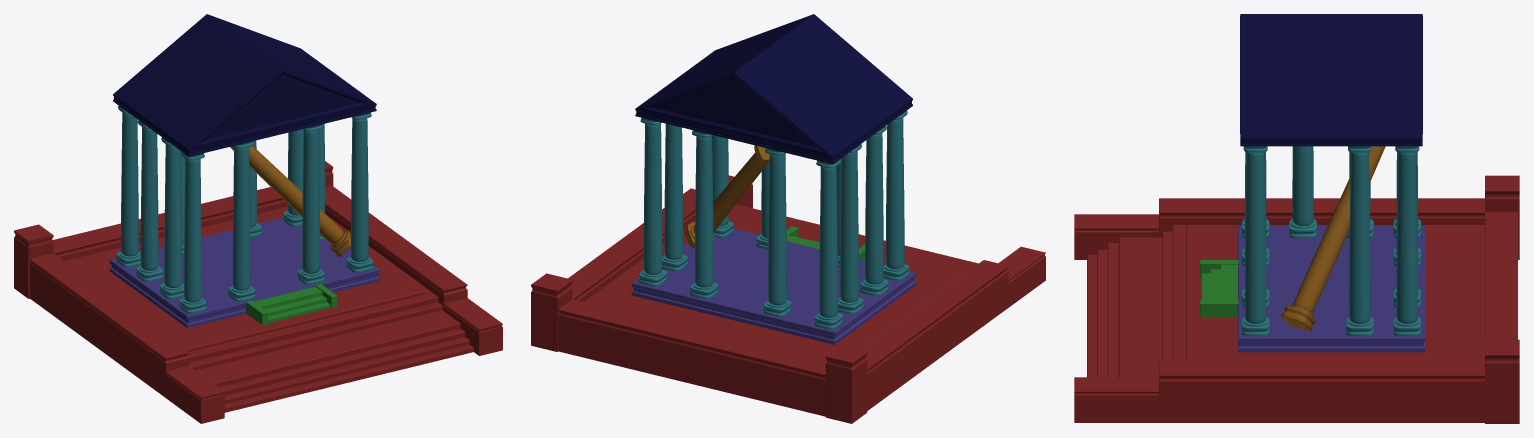
File: Textured Demolished Temple.fbx
3 views of the same model, side by side, from view 1: azimuth 30°, elevation 25°; view 2: azimuth 150°, elevation 25°; view 3: azimuth 270°, elevation 25° (orthographic). The views are drawn at different scales.
Visible parts, largest first — view 1: Temple_Base, Demolished_Temple, Separate_Temple, pCylinder16, pCylinder18, pCylinder4, pCylinder12, pCylinder20, pCylinder17, pCylinder19, Separated_Colomn1Shape, pCylinder15 (+5 smaller); view 2: Temple_Base, Demolished_Temple, Separate_Temple, pCylinder15, pCylinder19, pCylinder13, pCylinder21, pCylinder17, pCylinder18, pCylinder20, pCylinder14, Separated_Colomn1Shape (+2 smaller); view 3: Temple_Base, Demolished_Temple, Separate_Temple, pCylinder14, pCylinder4, pCylinder15, Separated_Colomn1Shape, pCylinder17, pCube14, Temple_Asset:pCube10.
Boxes of the visible parts, x1=… form: Temple_Base: x1=14, y1=161, x2=502, y2=423; Demolished_Temple: x1=113, y1=14, x2=376, y2=156; Separate_Temple: x1=109, y1=217, x2=380, y2=327; pCylinder16: x1=228, y1=141, x2=255, y2=301; pCylinder18: x1=179, y1=152, x2=206, y2=313; pCylinder4: x1=346, y1=112, x2=373, y2=272; pCylinder12: x1=297, y1=124, x2=324, y2=284; pCylinder20: x1=136, y1=120, x2=163, y2=281; pCylinder17: x1=159, y1=137, x2=184, y2=299; pCylinder19: x1=116, y1=106, x2=140, y2=267; Separated_Colomn1Shape: x1=230, y1=146, x2=350, y2=256; pCylinder15: x1=283, y1=129, x2=303, y2=226; Temple_Base: x1=531, y1=175, x2=1045, y2=423; Demolished_Temple: x1=635, y1=14, x2=912, y2=164; Separate_Temple: x1=631, y1=228, x2=916, y2=344; pCylinder15: x1=638, y1=117, x2=667, y2=286; pCylinder19: x1=814, y1=159, x2=843, y2=329; pCylinder13: x1=690, y1=130, x2=718, y2=299; pCylinder21: x1=763, y1=148, x2=791, y2=316; pCylinder17: x1=860, y1=126, x2=888, y2=295; pCylinder18: x1=883, y1=110, x2=909, y2=280; pCylinder20: x1=838, y1=144, x2=863, y2=314; pCylinder14: x1=662, y1=123, x2=688, y2=271; Separated_Colomn1Shape: x1=684, y1=145, x2=769, y2=248; Temple_Base: x1=1074, y1=175, x2=1519, y2=423; Demolished_Temple: x1=1240, y1=14, x2=1422, y2=146; Separate_Temple: x1=1238, y1=225, x2=1424, y2=352; pCylinder14: x1=1346, y1=146, x2=1373, y2=336; pCylinder4: x1=1242, y1=146, x2=1269, y2=336; pCylinder15: x1=1393, y1=146, x2=1420, y2=336; Separated_Colomn1Shape: x1=1281, y1=146, x2=1385, y2=331; pCylinder17: x1=1289, y1=146, x2=1316, y2=238; pCube14: x1=1200, y1=300, x2=1238, y2=317; Temple_Asset:pCube10: x1=1221, y1=264, x2=1237, y2=300.
Bounding box in the file's own units: 33.37 × 27.92 × 35.15.
